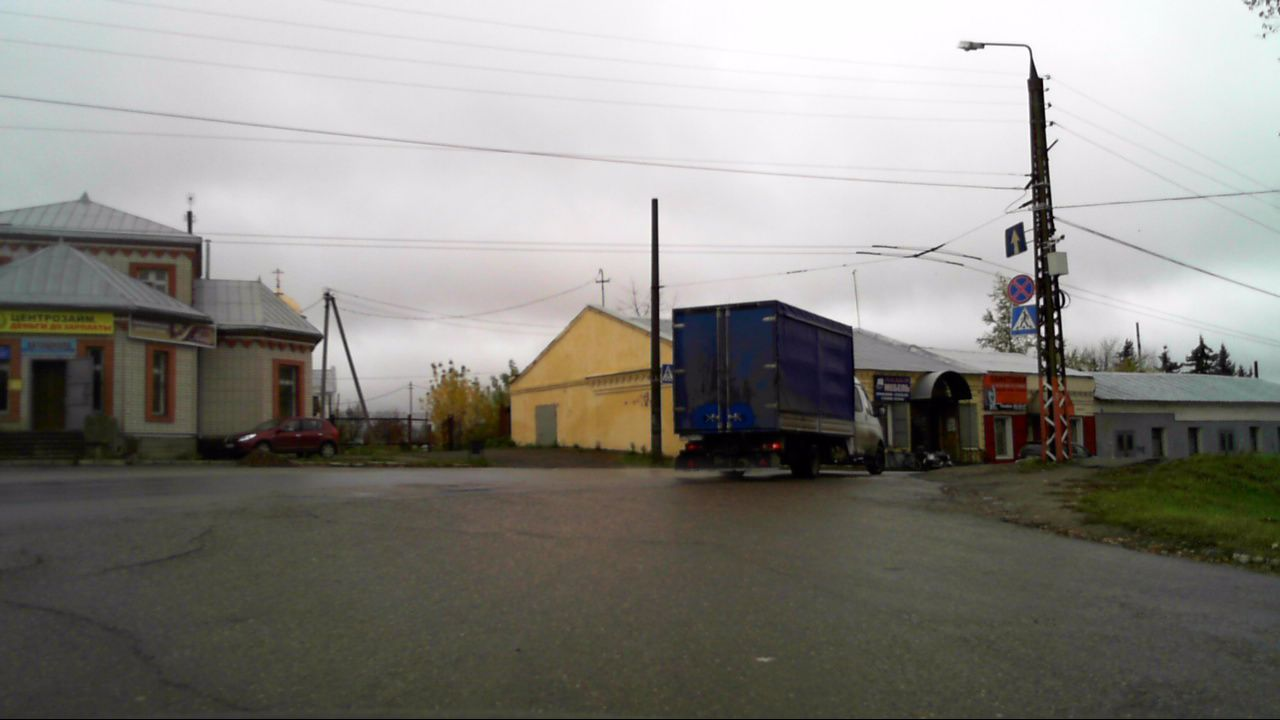No Parking: (1007, 274, 1035, 303)
